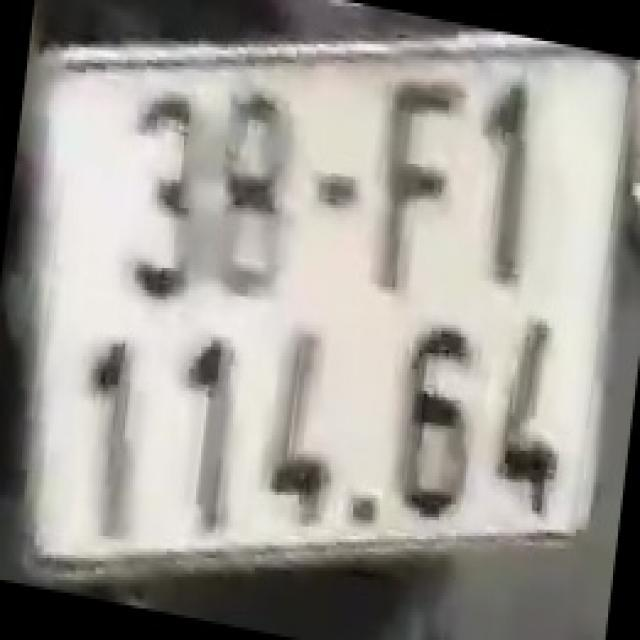1: (78, 330, 144, 546), (174, 328, 240, 539), (478, 76, 535, 287)
3: (122, 85, 204, 303)
4: (262, 322, 340, 532), (493, 312, 566, 523)
6: (392, 318, 476, 524)
8: (216, 78, 296, 300)
F: (376, 72, 464, 296)
